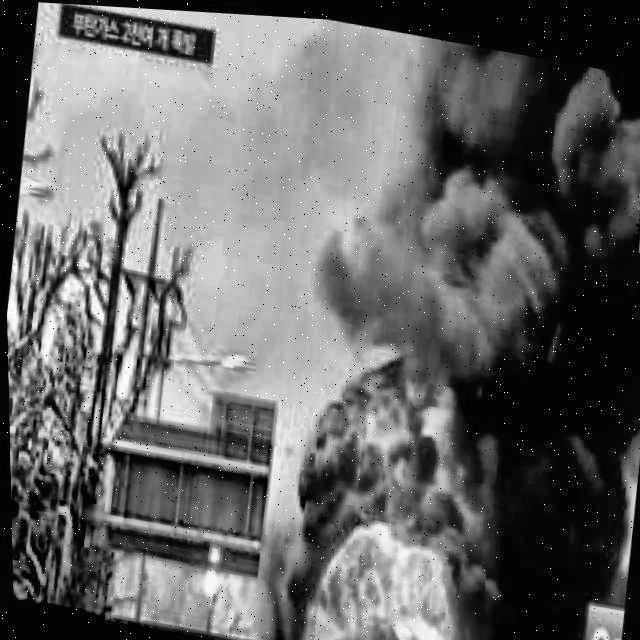Fire: (270, 341, 476, 640)
Smoke: (296, 14, 640, 410), (473, 391, 638, 640)
